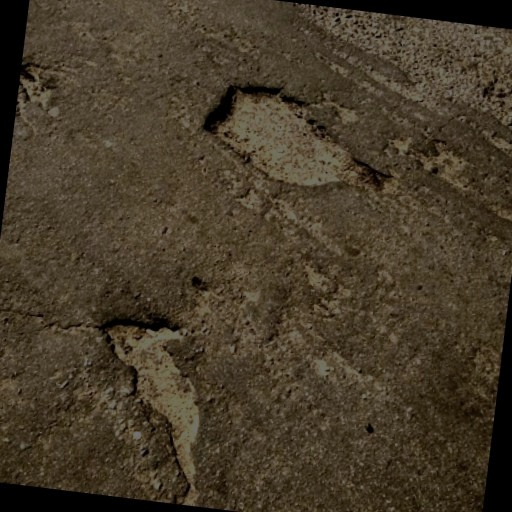pothole: (190, 74, 406, 204), (80, 312, 224, 506), (15, 60, 63, 121)
